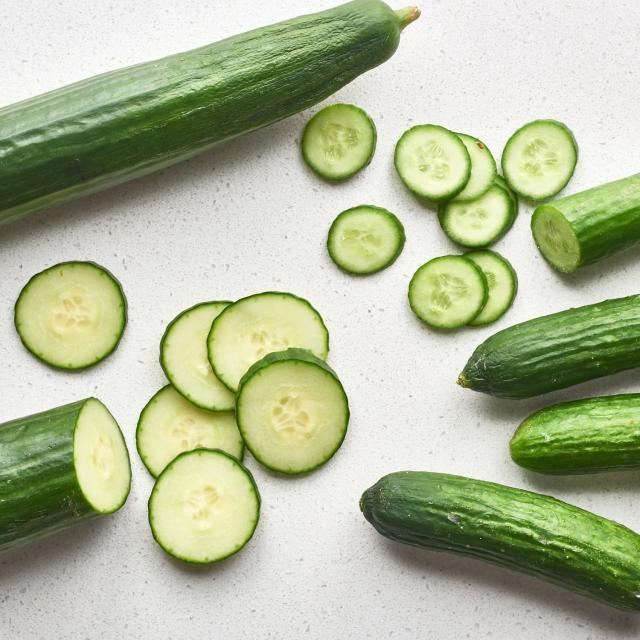cucumber: (0, 0, 398, 218), (363, 470, 640, 614), (461, 294, 640, 401), (511, 390, 640, 474)
